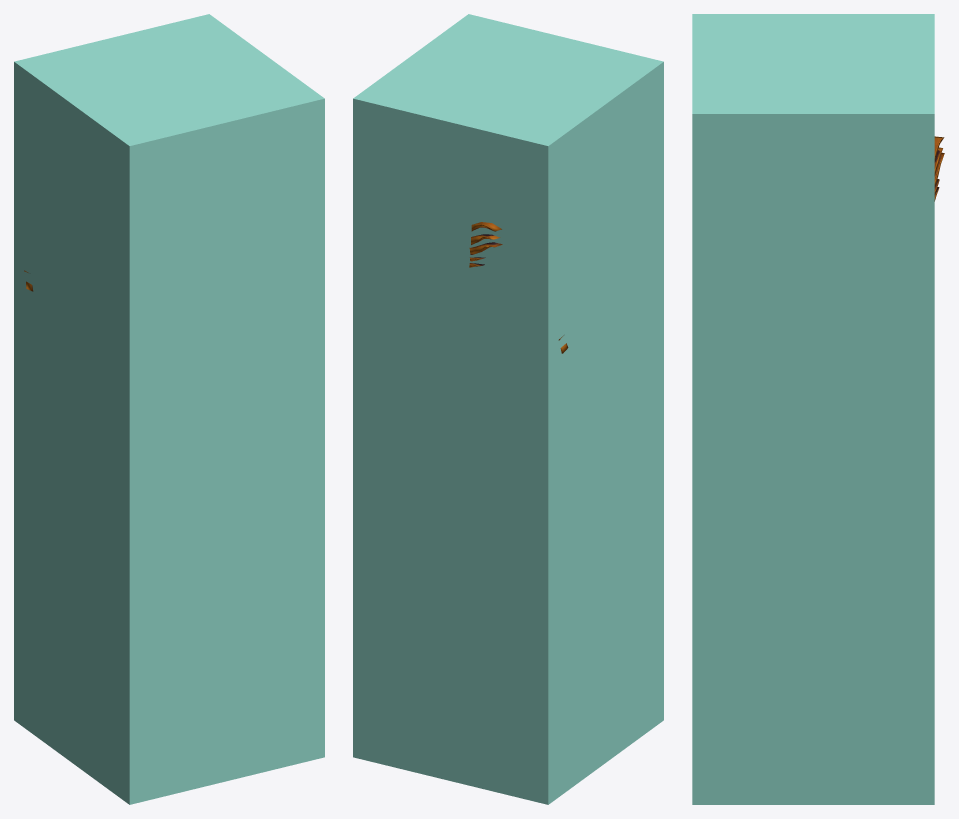
Rendered from dragon_pillar.DAE.
3 views of the same model, side by side, from view 1: azimuth 30°, elevation 25°; view 2: azimuth 150°, elevation 25°; view 3: azimuth 270°, elevation 25° (orthographic). The views are drawn at different scales.
Parts seen in each view (by area): view 1: bounds; view 2: bounds, dragonPillar200; view 3: bounds.
Part boxes in pixels (x1,y1,x2,y2): bounds: (14,14,324,804); bounds: (353,14,663,804); dragonPillar200: (469,222,568,353); bounds: (692,14,934,804).
Size of the model in its own units: 184 by 196 by 591.
